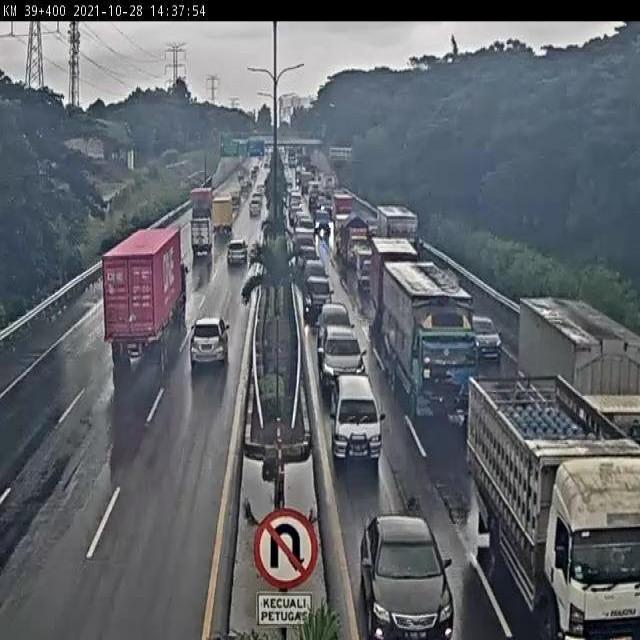car: (188, 223, 214, 261)
truck-l-: (470, 372, 640, 640), (519, 299, 640, 481), (381, 261, 479, 419), (192, 186, 218, 222)
truck-s-: (212, 197, 236, 240)
truck-xl-: (103, 230, 196, 362)
